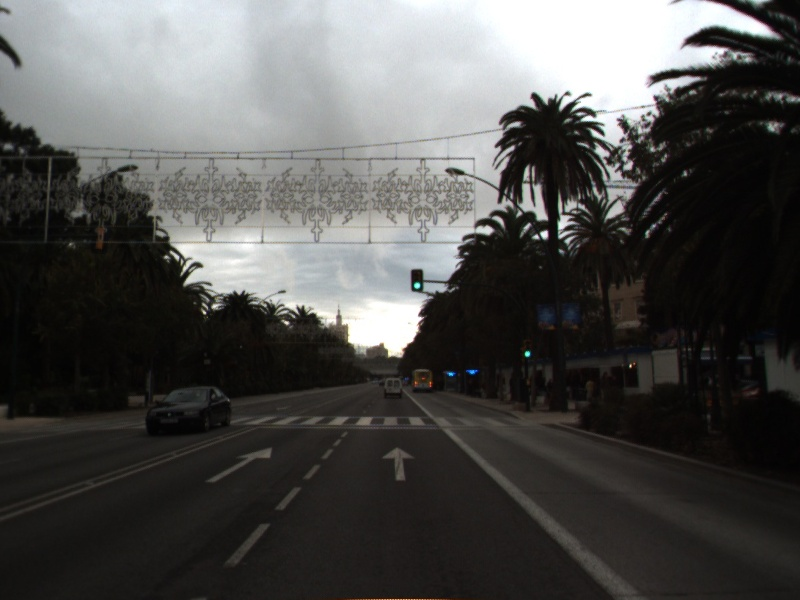STRAIGHT: (203, 445, 274, 485), (380, 445, 417, 483)
